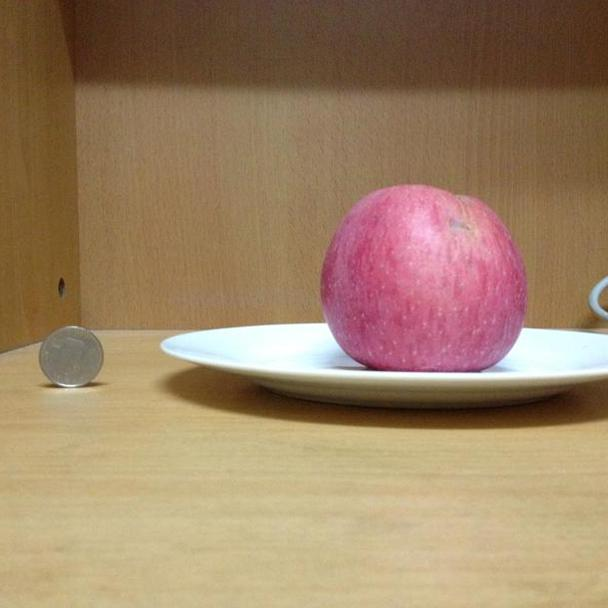apple: (317, 183, 527, 372)
